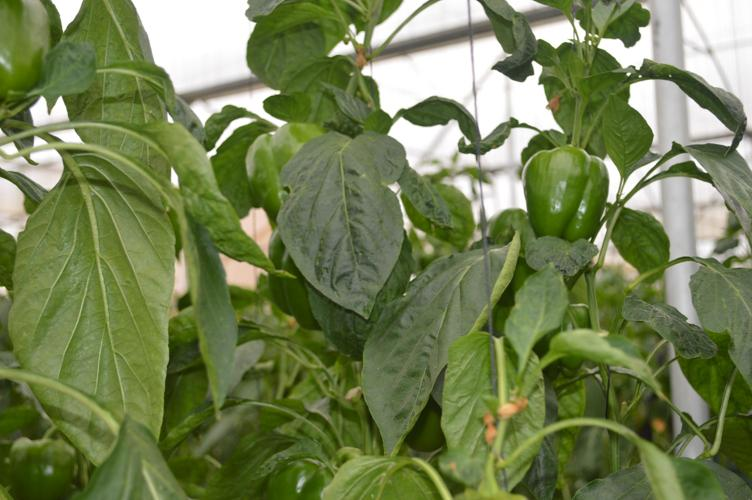BellPepper: (517, 147, 607, 245), (241, 121, 320, 217), (7, 438, 72, 500)
